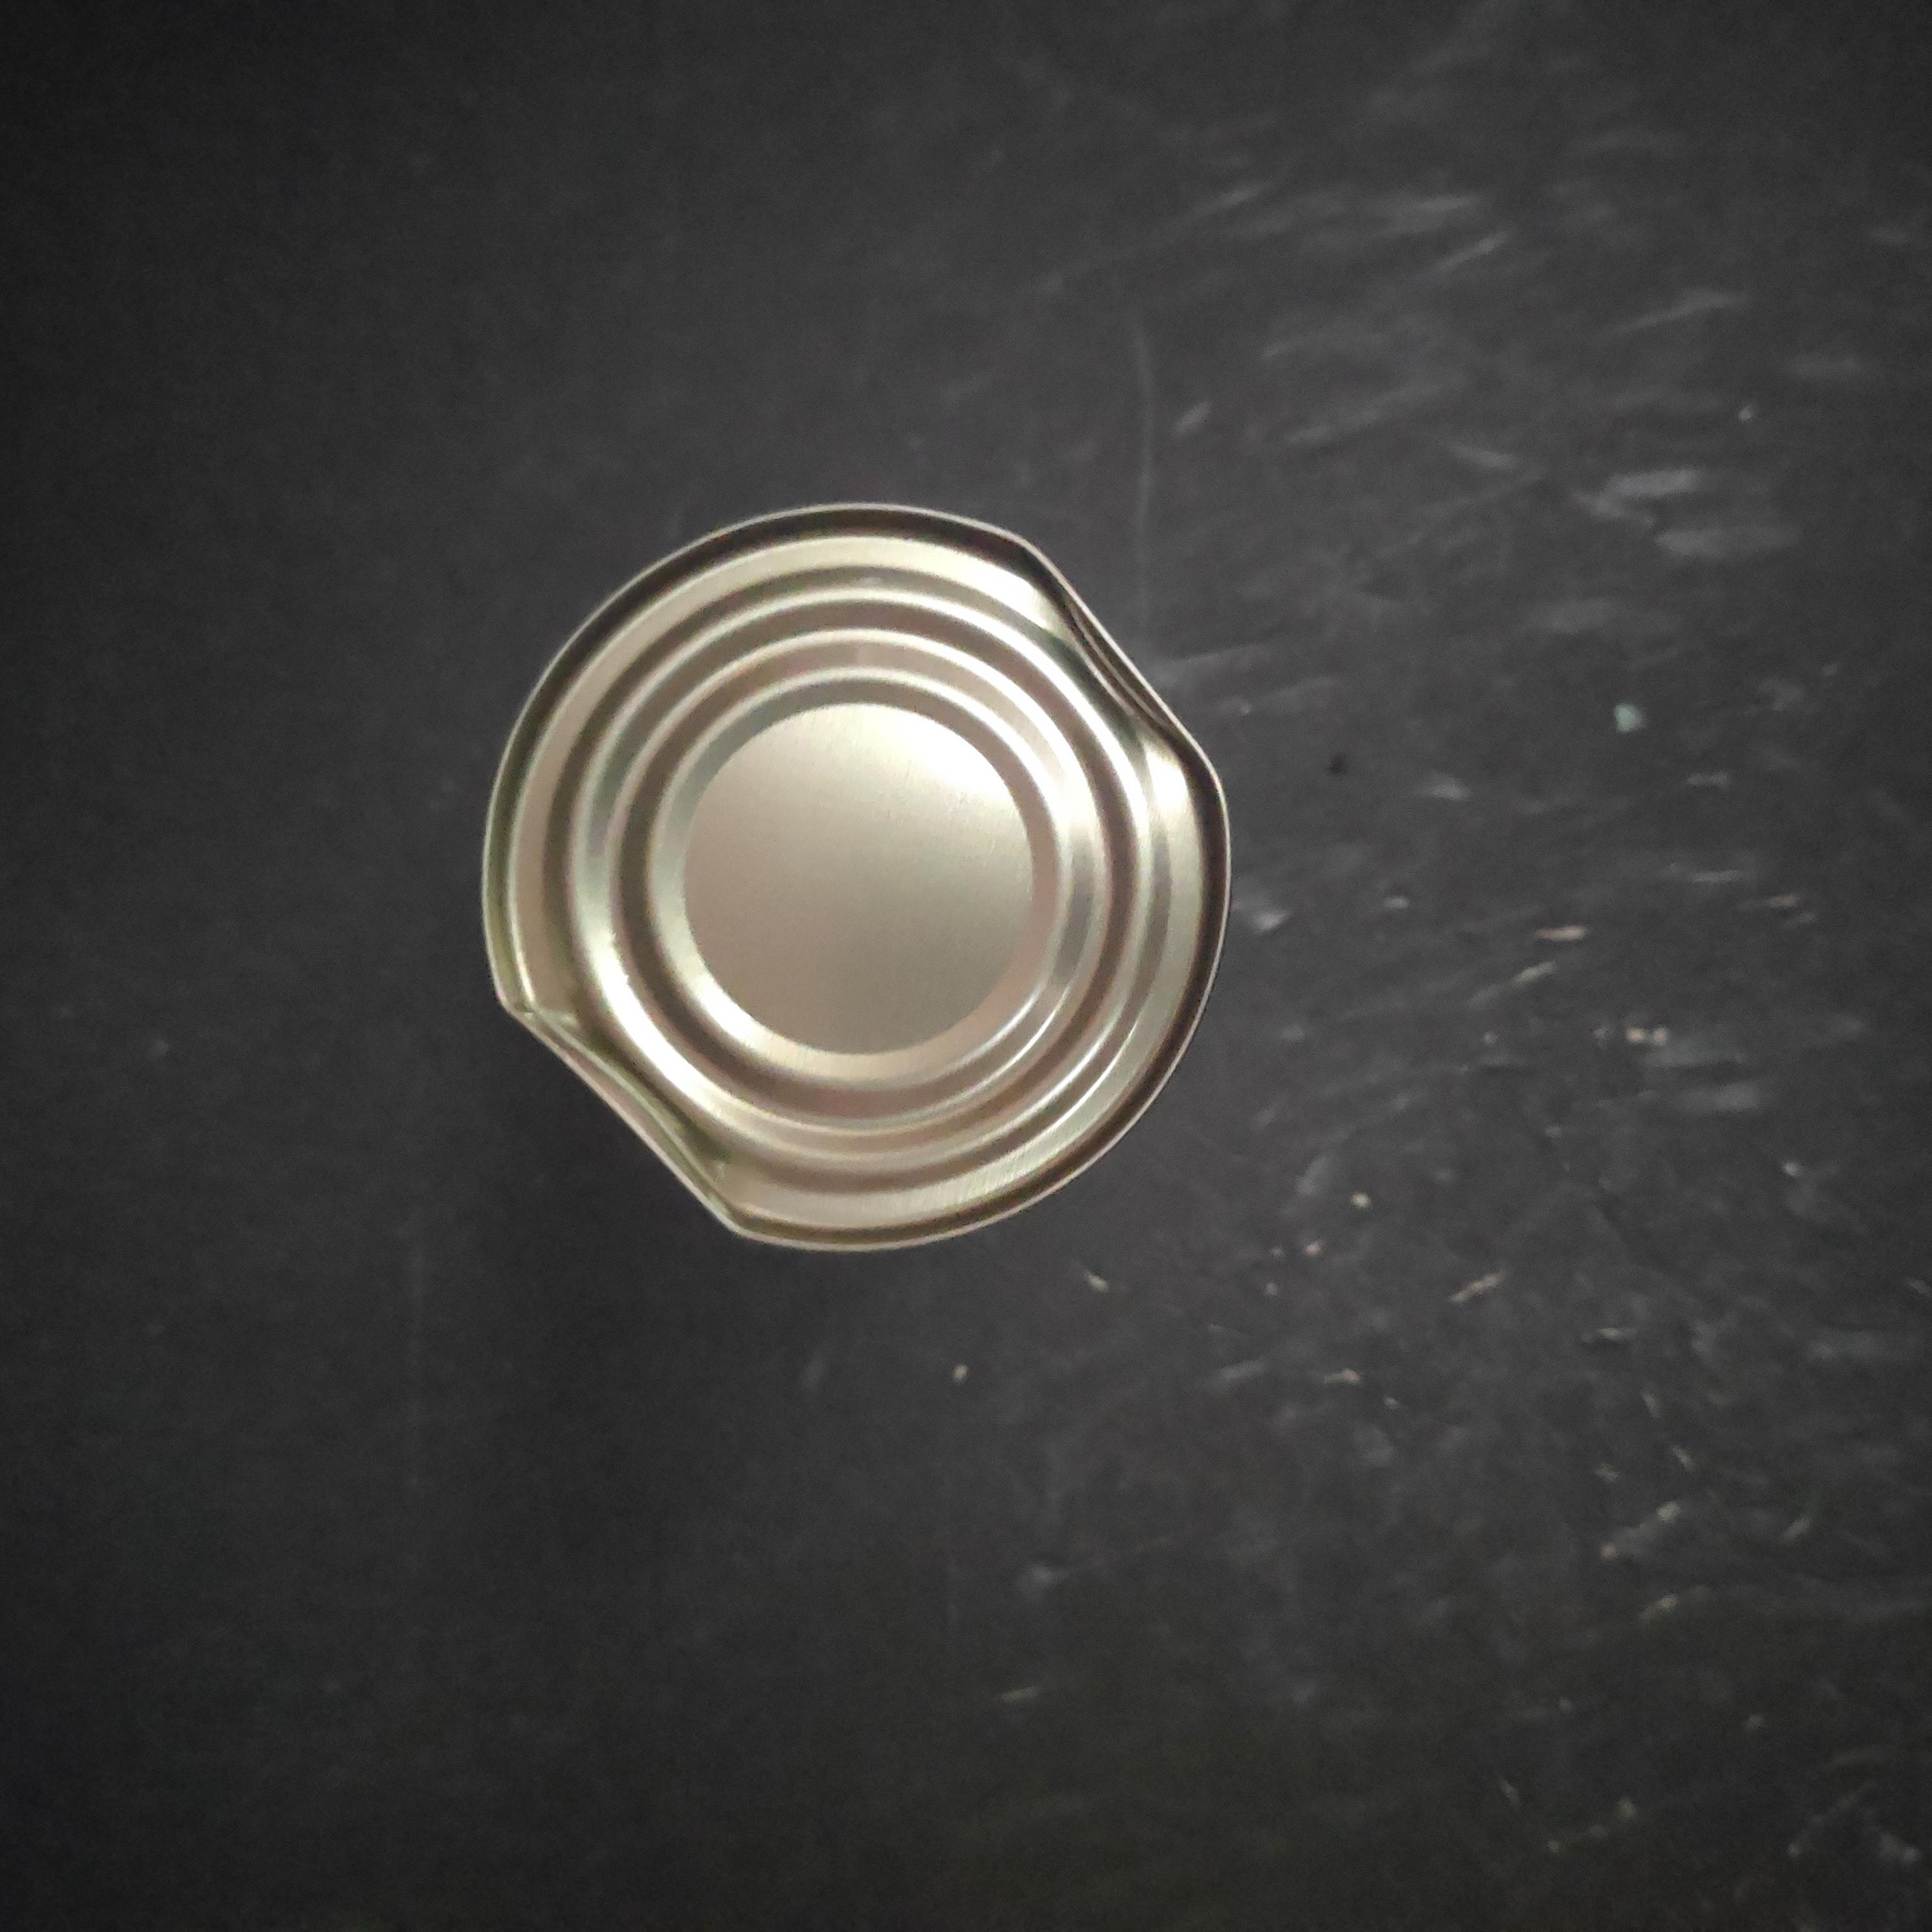Minor Defect: (681, 665, 1461, 1442)
